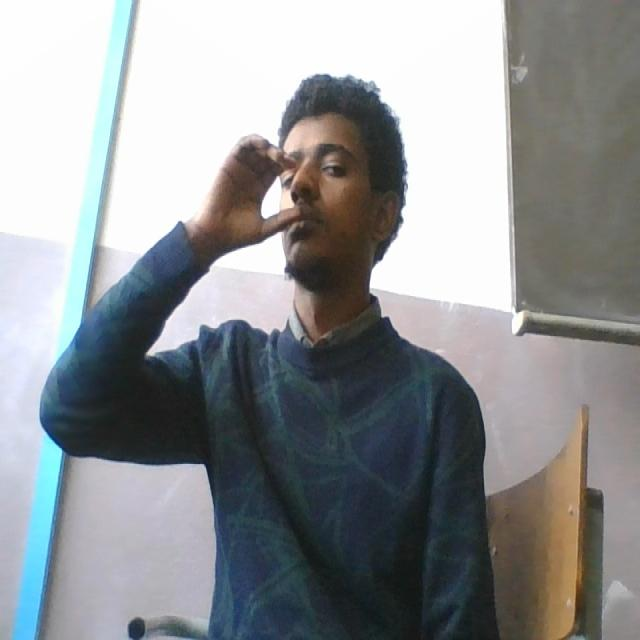metetat: (213, 130, 348, 248)
